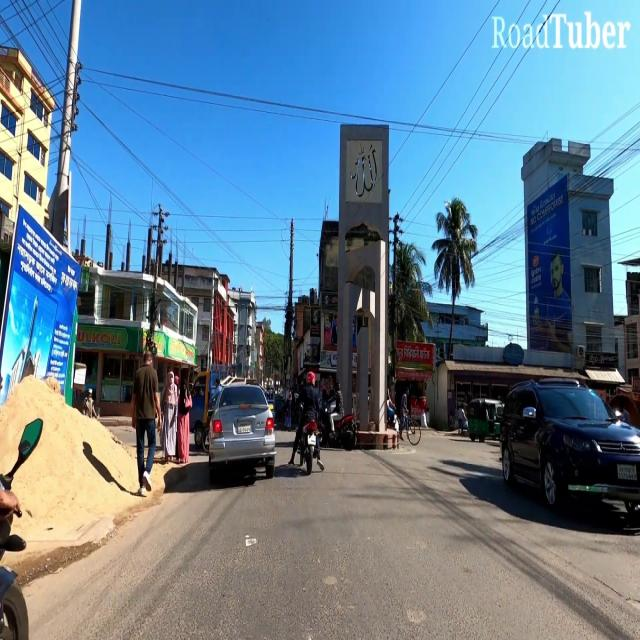black: (499, 378, 640, 519)
white: (209, 383, 277, 480)
